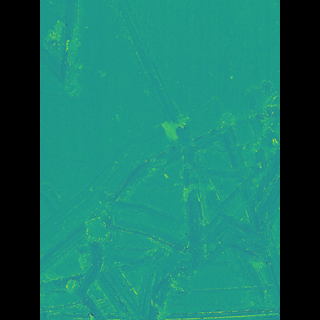Loch: (69, 86, 251, 319), (120, 0, 178, 131), (70, 0, 106, 99)
